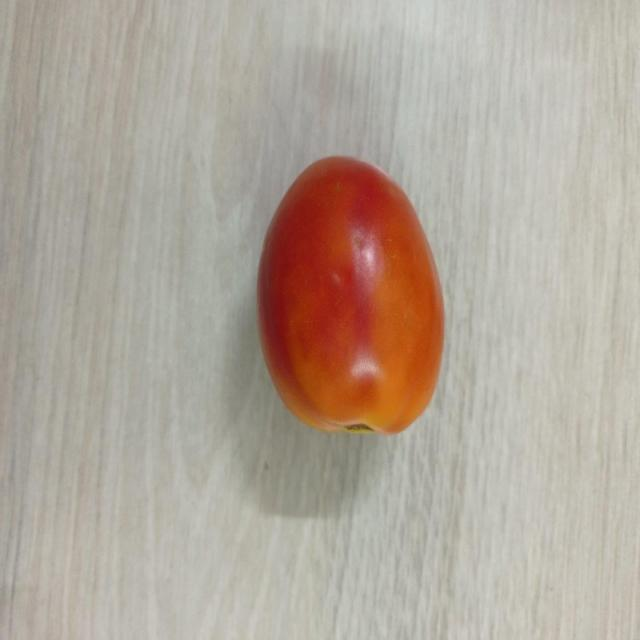Tomato: (252, 150, 448, 442)
